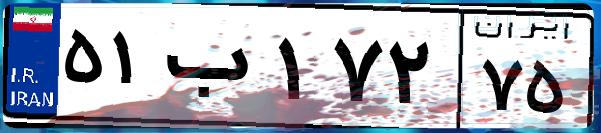1: (270, 28, 330, 110), (110, 28, 158, 98)
2: (385, 28, 445, 110)
5: (57, 26, 110, 100), (525, 38, 570, 115)
7: (330, 28, 385, 110), (475, 38, 525, 113)
ب: (158, 20, 270, 120)
